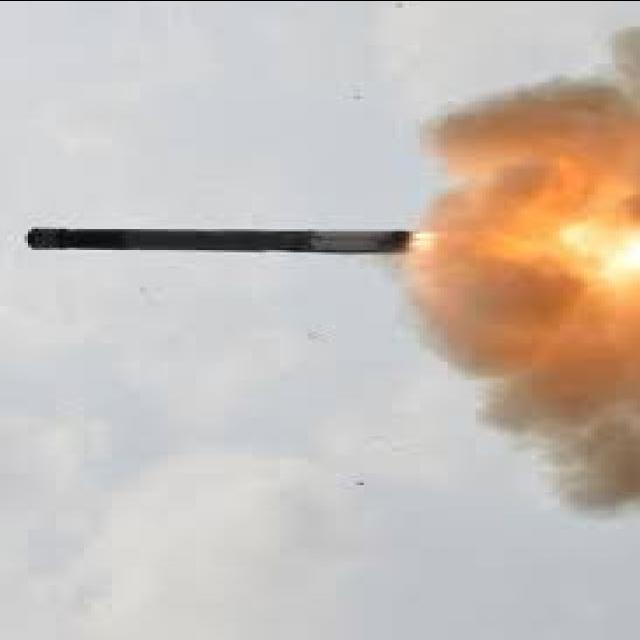Missile: (18, 225, 416, 256)
